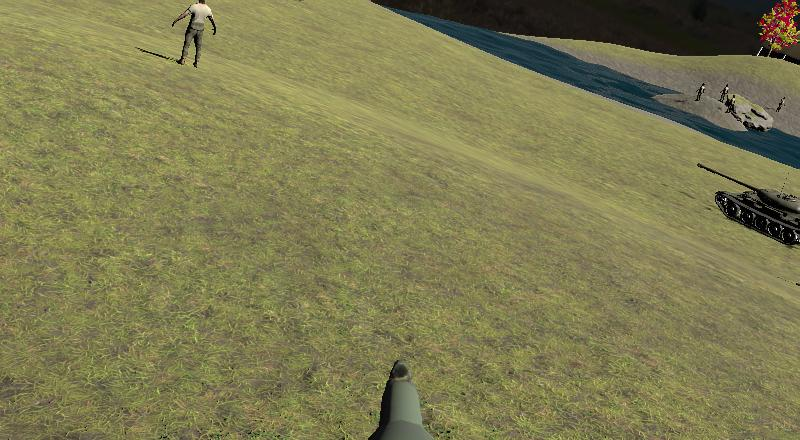Human: (168, 0, 222, 74), (692, 80, 707, 104), (692, 80, 707, 103), (724, 92, 738, 116), (718, 81, 731, 105), (774, 93, 787, 116)
Tank: (693, 159, 800, 251), (721, 89, 776, 136), (735, 98, 776, 136)
